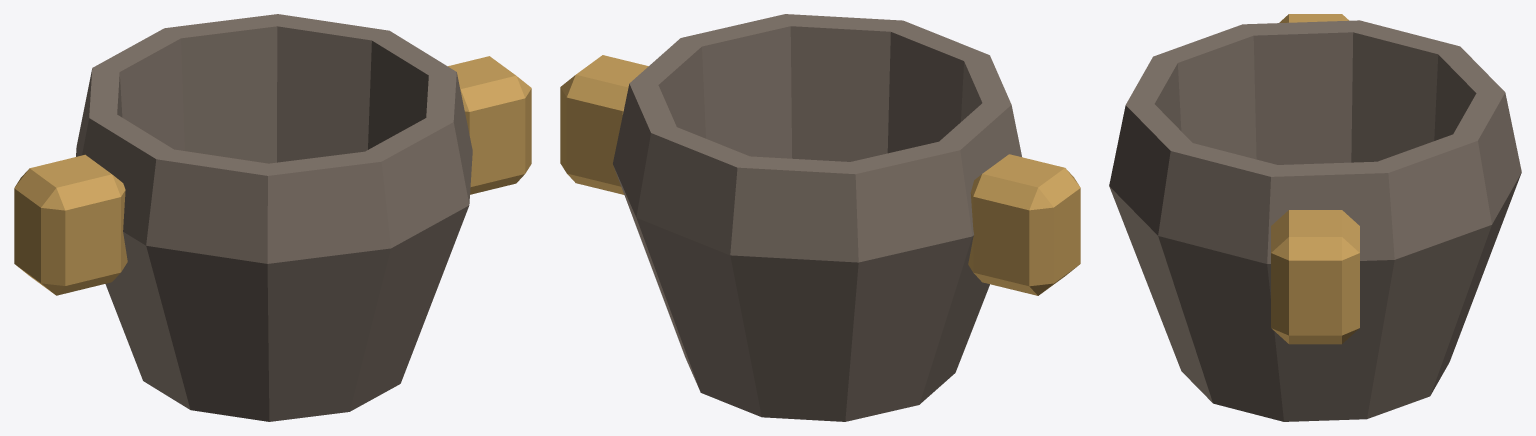
File: cooking_pot_03.glb
The picture shows the model from 3 angles, left to right: view 1: azimuth 30°, elevation 25°; view 2: azimuth 150°, elevation 25°; view 3: azimuth 270°, elevation 25°; orthographic projection.
Parts seen in each view (by area): view 1: Pot, Grip, Grip_001; view 2: Pot, Grip, Grip_001; view 3: Pot, Grip_001, Grip.
Part boxes in pixels (x1=…): Pot: x1=76, y1=14, x2=472, y2=421; Grip: x1=14, y1=154, x2=127, y2=295; Grip_001: x1=448, y1=56, x2=531, y2=194; Pot: x1=613, y1=14, x2=1021, y2=421; Grip: x1=968, y1=154, x2=1080, y2=295; Grip_001: x1=560, y1=55, x2=648, y2=194; Pot: x1=1109, y1=20, x2=1521, y2=421; Grip_001: x1=1271, y1=210, x2=1359, y2=344; Grip: x1=1279, y1=14, x2=1348, y2=22.
Size of the model in its own units: 0.3808 by 0.2 by 0.2791.
